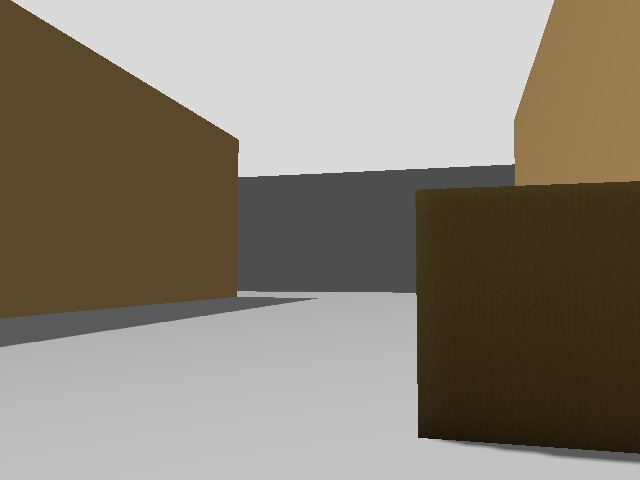package: (417, 194, 635, 450)
